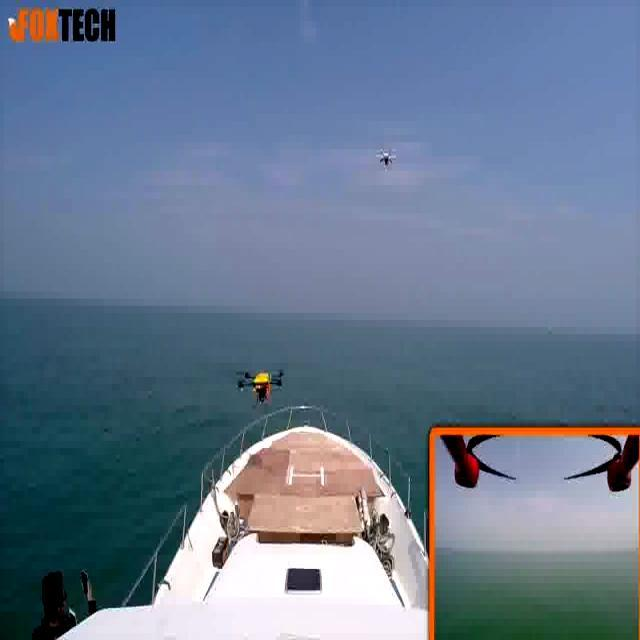drone: (234, 361, 288, 414), (374, 144, 401, 174)
